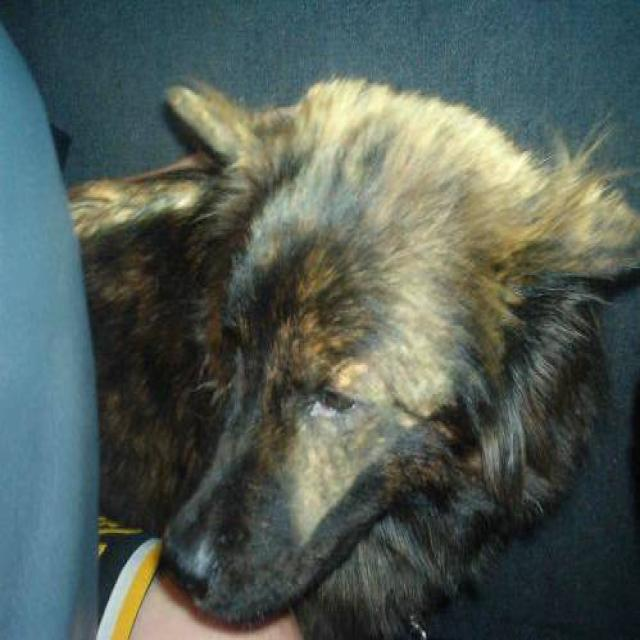dog: (64, 71, 639, 638)
